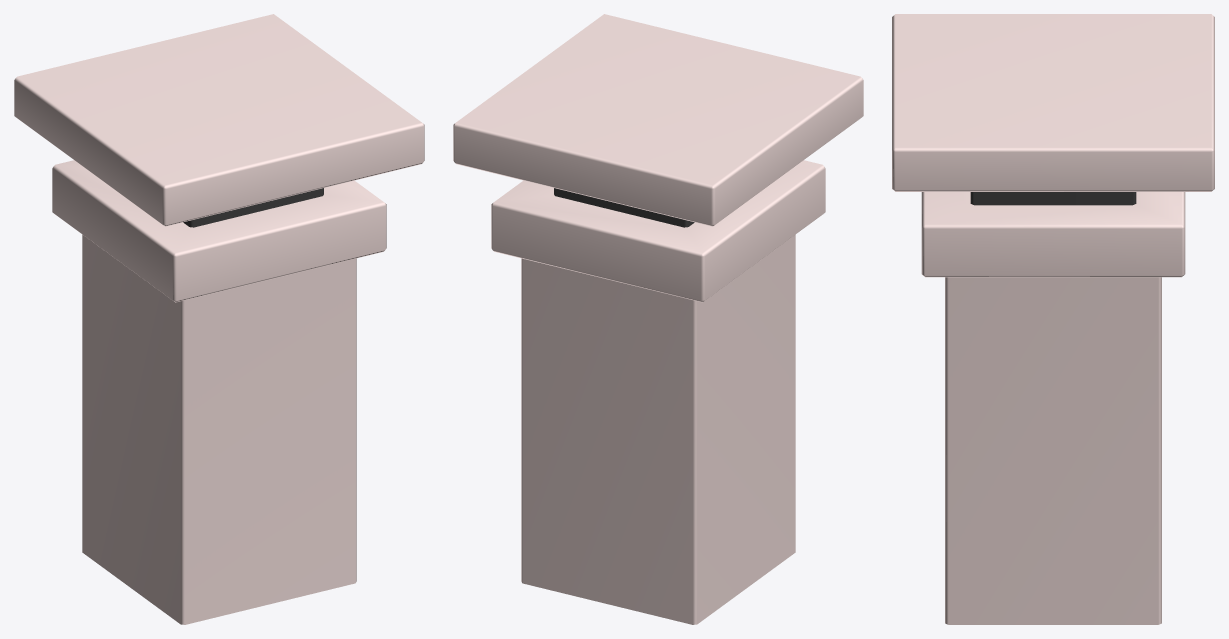
File: City_1_Chimney_1.glb
3 views of the same model, side by side, from view 1: azimuth 30°, elevation 25°; view 2: azimuth 150°, elevation 25°; view 3: azimuth 270°, elevation 25° (orthographic). The views are drawn at different scales.
Visible parts, largest first — view 1: City_1_Chimney_1; view 2: City_1_Chimney_1; view 3: City_1_Chimney_1.
Part boxes in pixels (x1,y1,x2,y2): City_1_Chimney_1: (14, 14, 424, 624); City_1_Chimney_1: (453, 14, 863, 624); City_1_Chimney_1: (892, 14, 1214, 624).
Bounding box in the file's own units: 1.07 × 1.82 × 1.07.
Materials: 1 (1 with a texture image).
